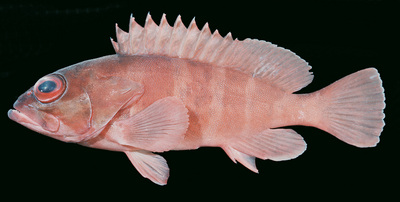fish: (7, 11, 386, 186)
